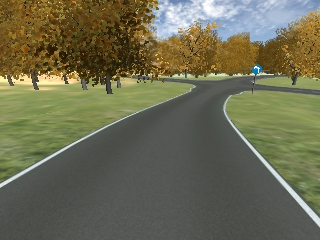left: (251, 63, 261, 74)
